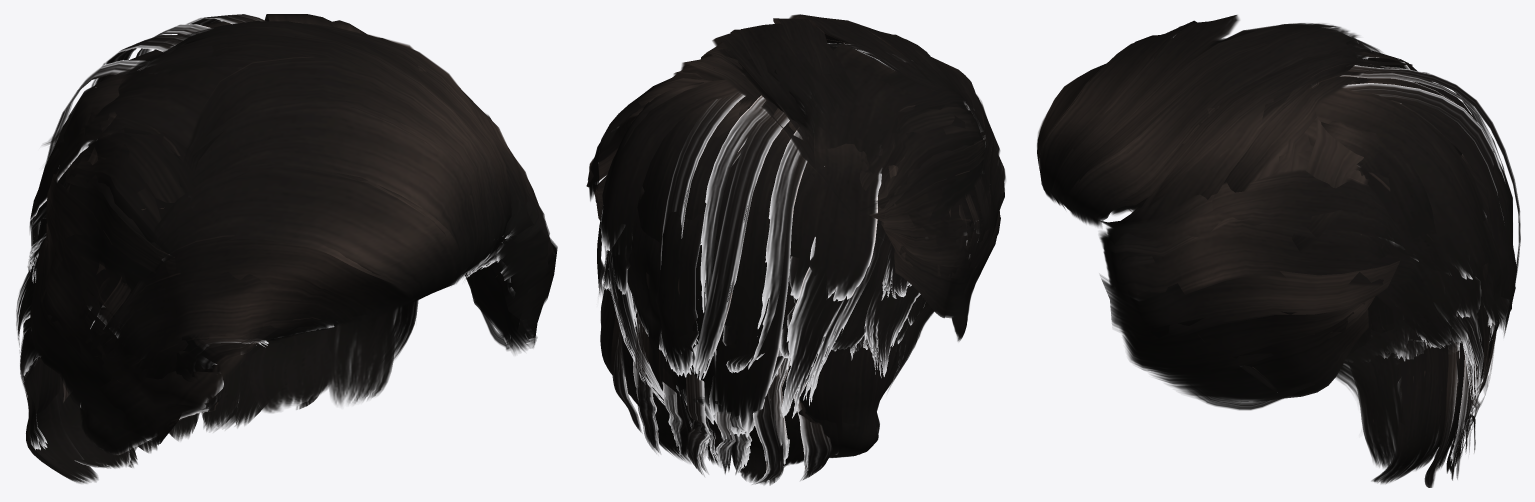
File: Oblong_Straight_SidePart.glb
3 views of the same model, side by side, from view 1: azimuth 30°, elevation 25°; view 2: azimuth 150°, elevation 25°; view 3: azimuth 270°, elevation 25° (orthographic). The views are drawn at different scales.
Visible parts, largest first — view 1: SIDE PART.003; view 2: SIDE PART.003; view 3: SIDE PART.003.
Boxes of the visible parts, x1,y1,x2,y2 form: SIDE PART.003: (16,14,557,483); SIDE PART.003: (586,14,1005,485); SIDE PART.003: (1037,15,1520,487).
Size of the model in its own units: 0.1893 by 0.2018 by 0.2078.
1 material, 1 textured.
